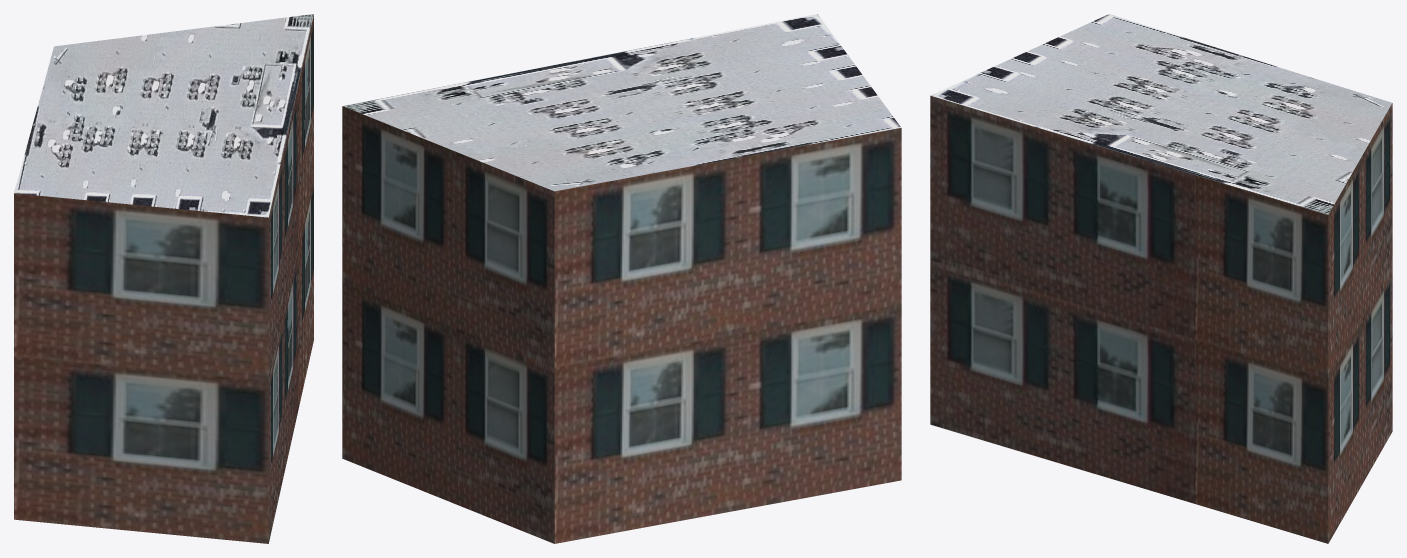
Rendered from ResTex__4749.fbx.
3 views of the same model, side by side, from view 1: azimuth 30°, elevation 25°; view 2: azimuth 150°, elevation 25°; view 3: azimuth 270°, elevation 25° (orthographic). The views are drawn at different scales.
Parts seen in each view (by area): view 1: CityEngineMaterial_14_m, CityEngineMaterial_8_m; view 2: CityEngineMaterial_14_m, CityEngineMaterial_8_m; view 3: CityEngineMaterial_14_m, CityEngineMaterial_8_m.
Boxes of the visible parts, x1,y1,x2,y2 form: CityEngineMaterial_14_m: (14, 15, 313, 543); CityEngineMaterial_8_m: (14, 14, 313, 217); CityEngineMaterial_14_m: (342, 106, 901, 543); CityEngineMaterial_8_m: (343, 14, 901, 191); CityEngineMaterial_14_m: (930, 95, 1392, 543); CityEngineMaterial_8_m: (931, 14, 1391, 214).
Size of the model in its own units: 7.86 by 6 by 7.64.
2 materials, 2 textured.
